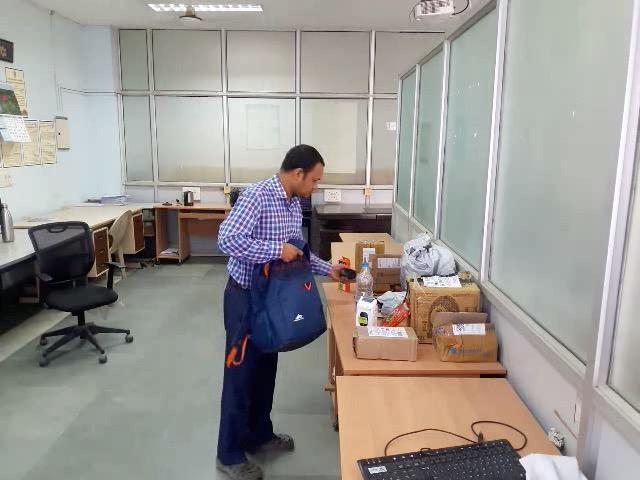shoplifting: (213, 139, 364, 418)
